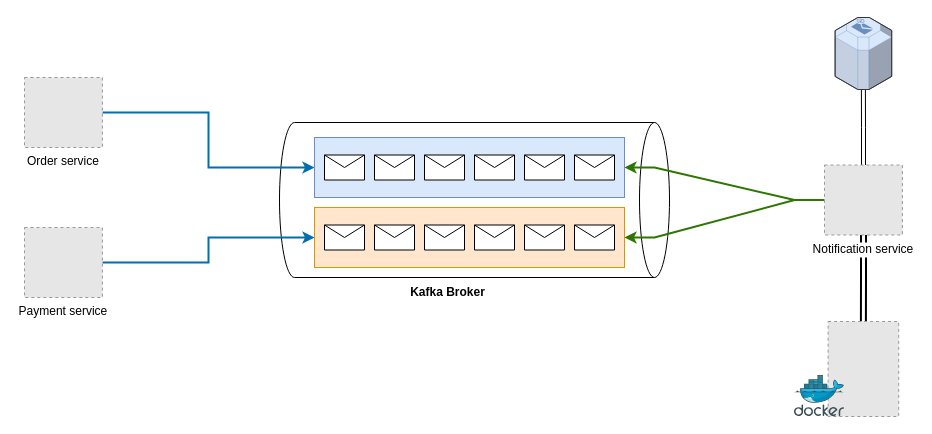
The diagram is 932 pixels wide and 434 high, and some of its shapes have lost their labels. Grey dashed boxes stand in for pictures. The box of each missing label's shape, as (x1, y1, x2, y2) in pixels:
order-topic: (314, 136, 624, 198)
payment-topic: (314, 206, 624, 268)
